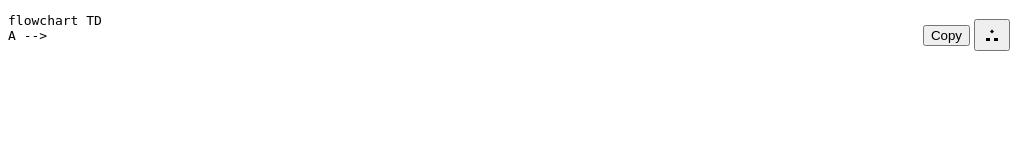
Test: diagram preview controls › keeps source visible with a concise error and lets the user dismiss it
Click the button named "Preview diagram": [992, 35] box [974, 19, 1010, 51]
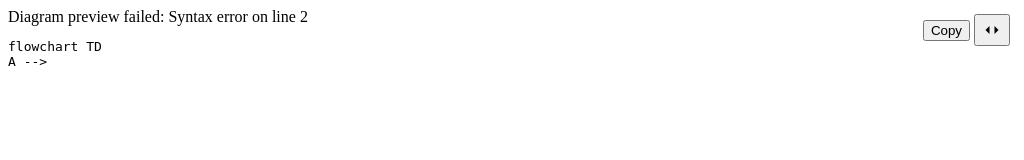
Expected: the element showing "flowchart TD A -->" is shown, [8, 39, 102, 69]
Expected: the message reads "Diagram preview failed: Syntax error on line 2", [8, 8, 308, 25]
Click the button named "Show code": [992, 30] box [974, 14, 1010, 46]
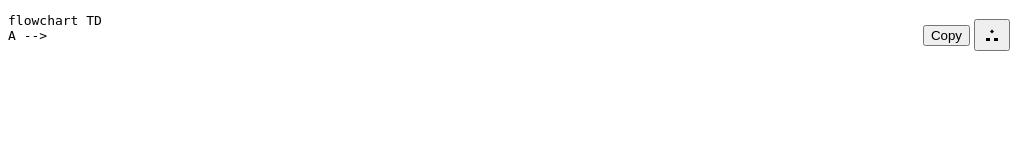
Expected: the message "Diagram preview failed: Syntax error on line 2" is gone
